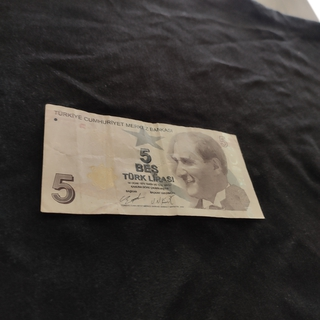5TLFront: (40, 103, 265, 220)
